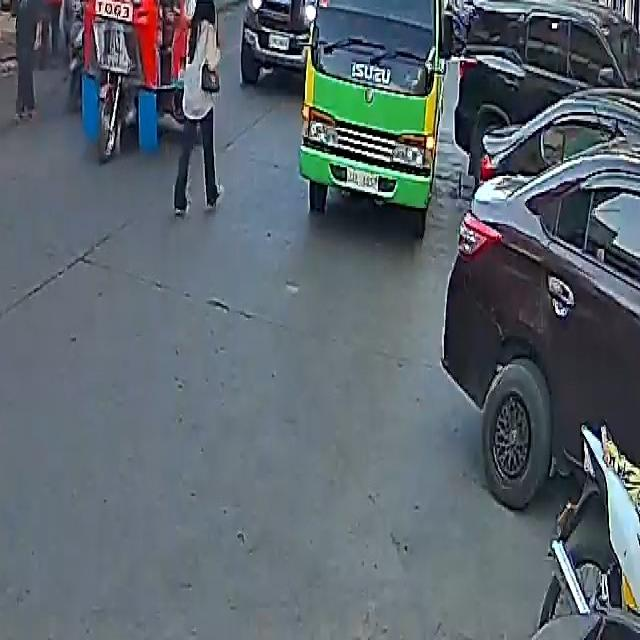car: (442, 70, 640, 526), (453, 0, 640, 172), (239, 0, 327, 87)
